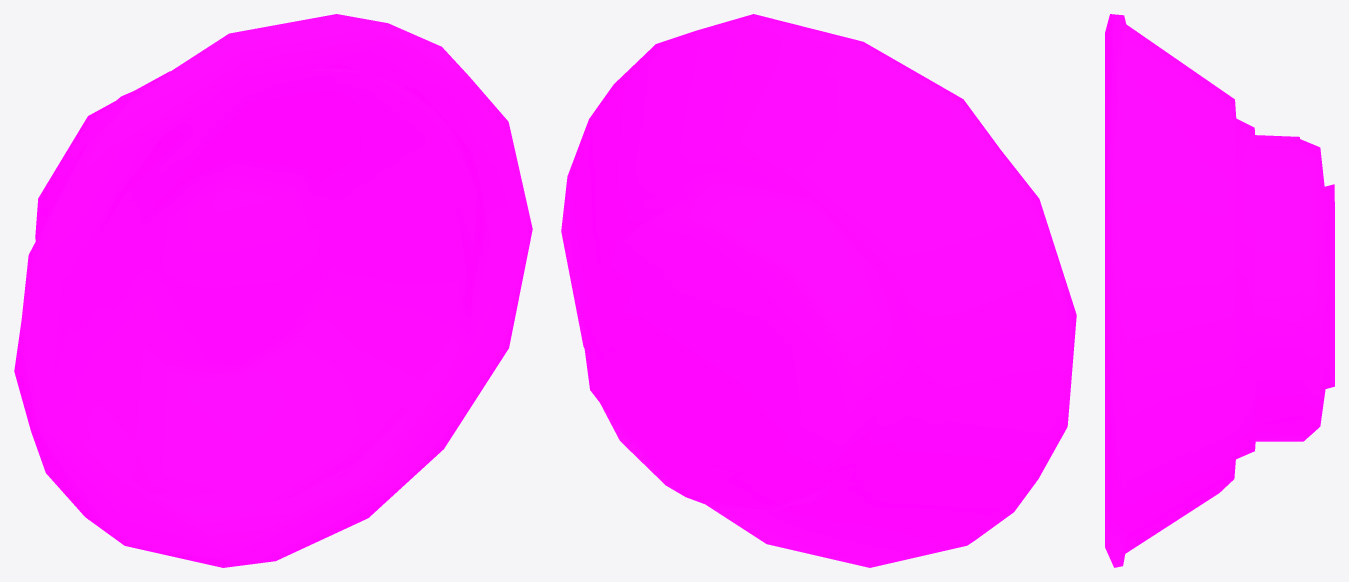
File: speakerGizmo.baked.fbx
The picture shows the model from 3 angles, left to right: view 1: azimuth 30°, elevation 25°; view 2: azimuth 150°, elevation 25°; view 3: azimuth 270°, elevation 25°; orthographic projection. The views are drawn at different scales.
Visible parts, largest first — view 1: speakerCone; view 2: speakerCone; view 3: speakerCone.
Boxes of the visible parts, bbox=[...] form: speakerCone: bbox=[14, 14, 532, 567]; speakerCone: bbox=[561, 14, 1076, 567]; speakerCone: bbox=[1105, 14, 1334, 567].
Size of the model in its own units: 2.02 by 2.01 by 0.8362.
